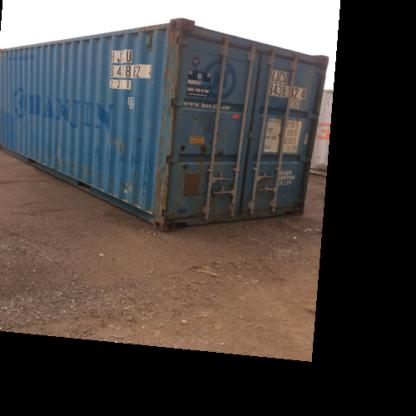Damage: (35, 154, 128, 187), (161, 16, 188, 96), (154, 92, 177, 158), (152, 152, 171, 224), (103, 130, 133, 152), (191, 107, 213, 131), (195, 131, 208, 159), (201, 191, 219, 210), (180, 160, 195, 180), (210, 142, 228, 156), (176, 139, 188, 156)
